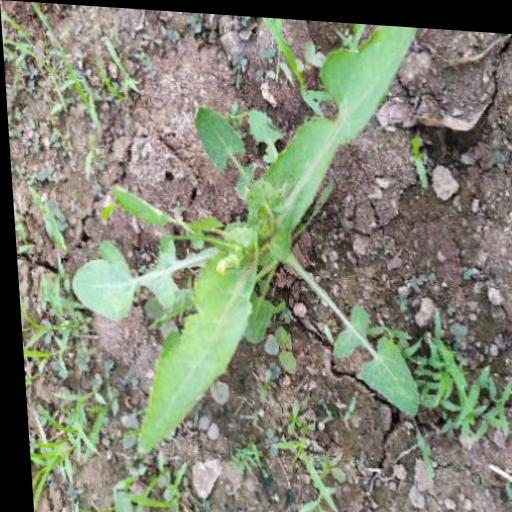weed: (48, 3, 506, 511)
